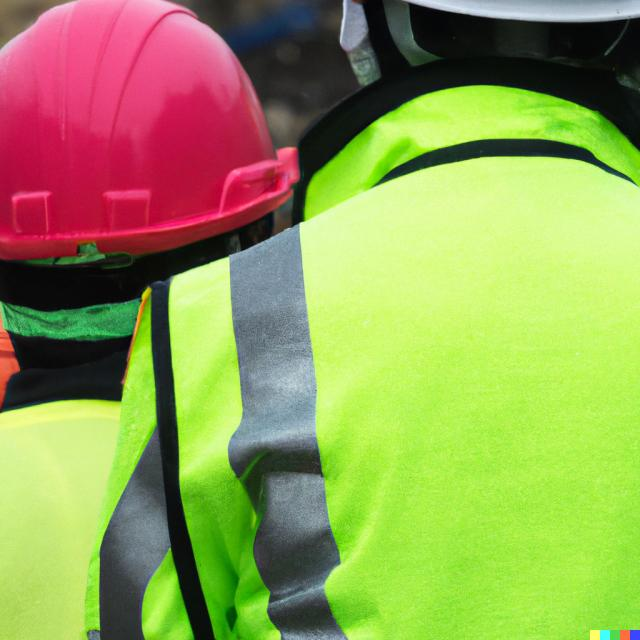Reflective-Jacket: (23, 29, 640, 640)
Safety-Helmet: (1, 1, 297, 266)
